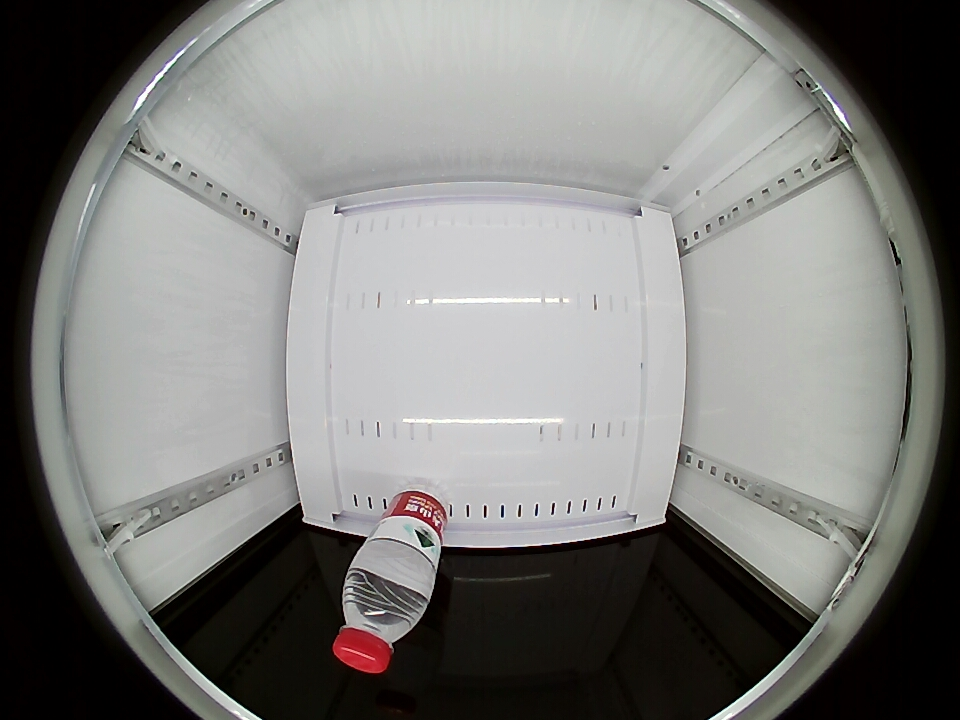nongfushanquan: (334, 564, 433, 674)
